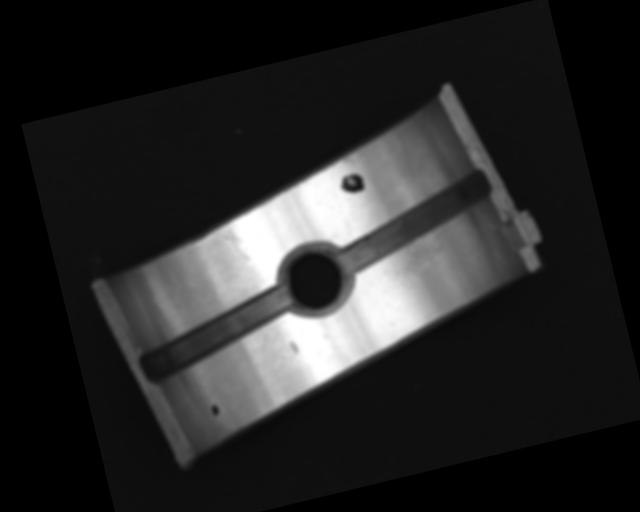blot: (336, 172, 366, 197), (209, 402, 221, 418)
bruise: (289, 338, 299, 355)
gap: (328, 170, 502, 277), (132, 286, 301, 384)
hole: (272, 238, 358, 322)
nick: (221, 220, 251, 266)
scratch: (387, 237, 457, 288)
